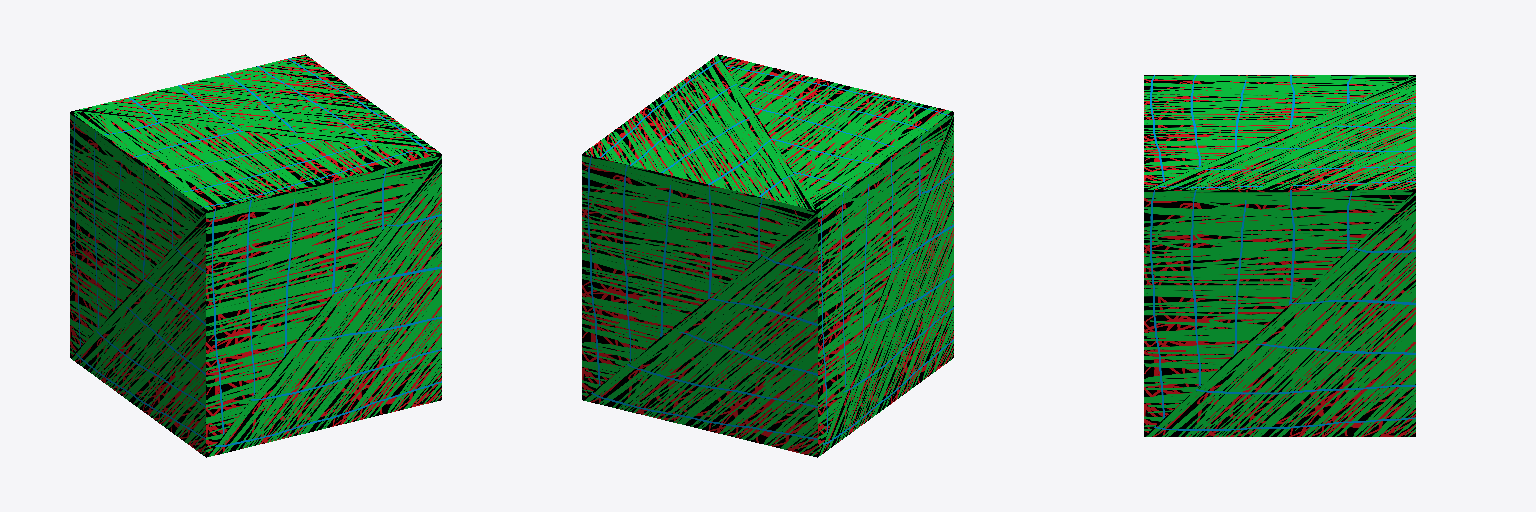
3 renders of one model, left to right at view 1: azimuth 30°, elevation 25°; view 2: azimuth 150°, elevation 25°; view 3: azimuth 270°, elevation 25°, orthographic.
Parts seen in each view (by area): view 1: Cube_Cube.001; view 2: Cube_Cube.001; view 3: Cube_Cube.001.
Part boxes in pixels (x1,y1,x2,y2): Cube_Cube.001: (70, 54, 441, 457); Cube_Cube.001: (582, 54, 953, 457); Cube_Cube.001: (1144, 75, 1415, 436).
Bounding box in the file's own units: 2 × 2 × 2.
Materials: 1 (1 with a texture image).